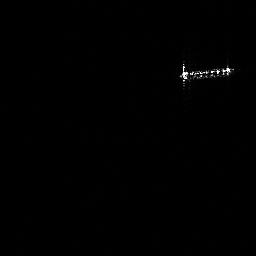ship: (181, 65, 233, 79)
